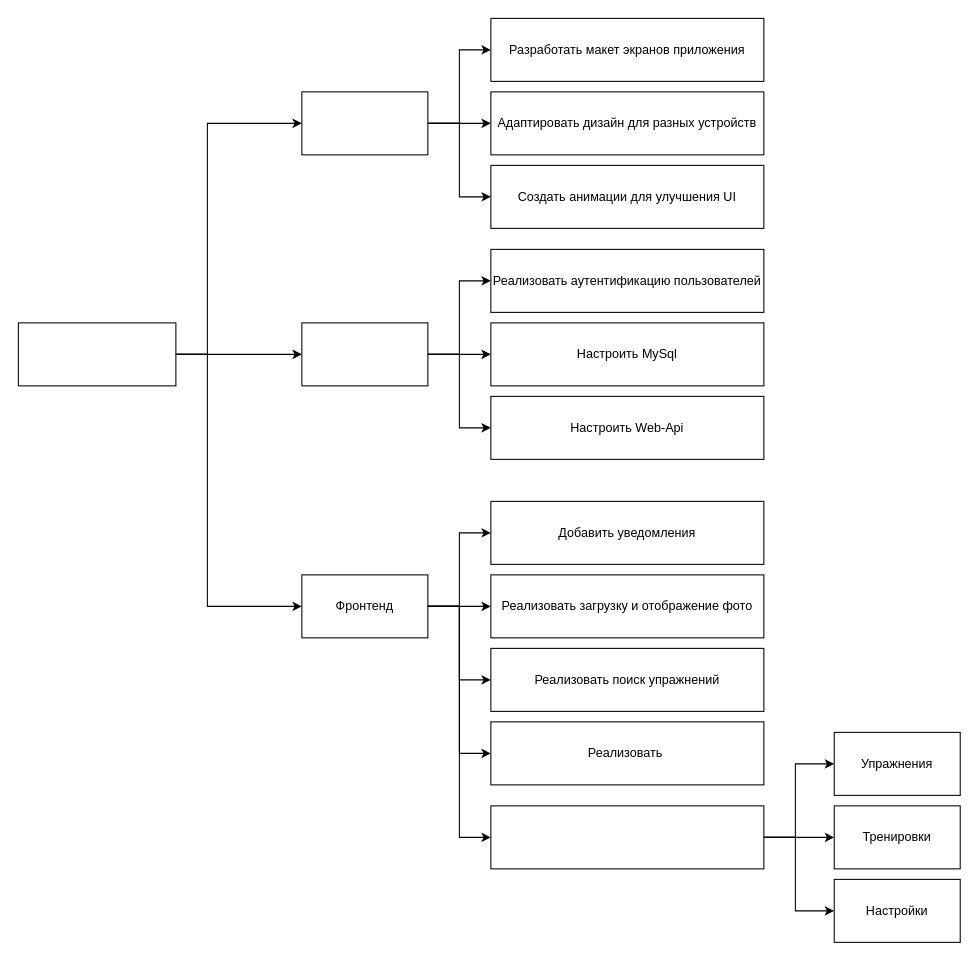
This 979x961 diagram has some shape labels left out. The shapes that lost their labels are listed below. From the top down, each one's centre as x and y in pixels, then its label:
At point 364,123: "Дизайн".
At point 96,354: "Разработка мобильного приложения".
At point 364,354: "Бэкенд".
At point 627,837: "Создать UI-компоненты".
